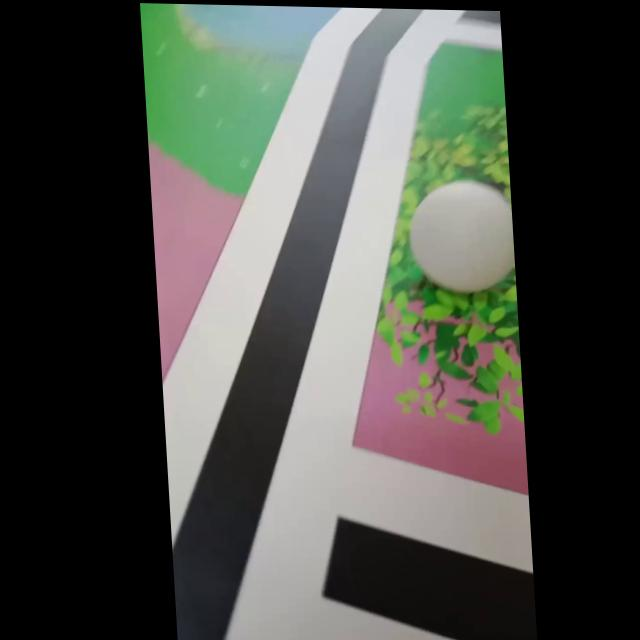white ball: (405, 177, 515, 295)
